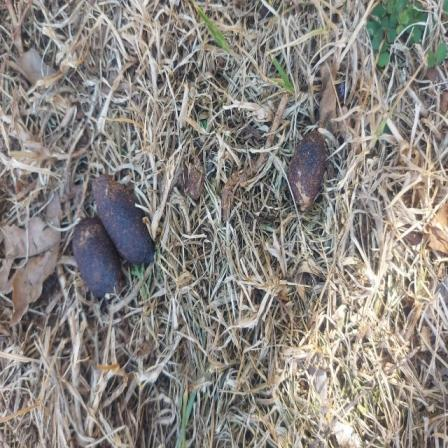dog-poop: (56, 167, 154, 286), (282, 126, 351, 216)
